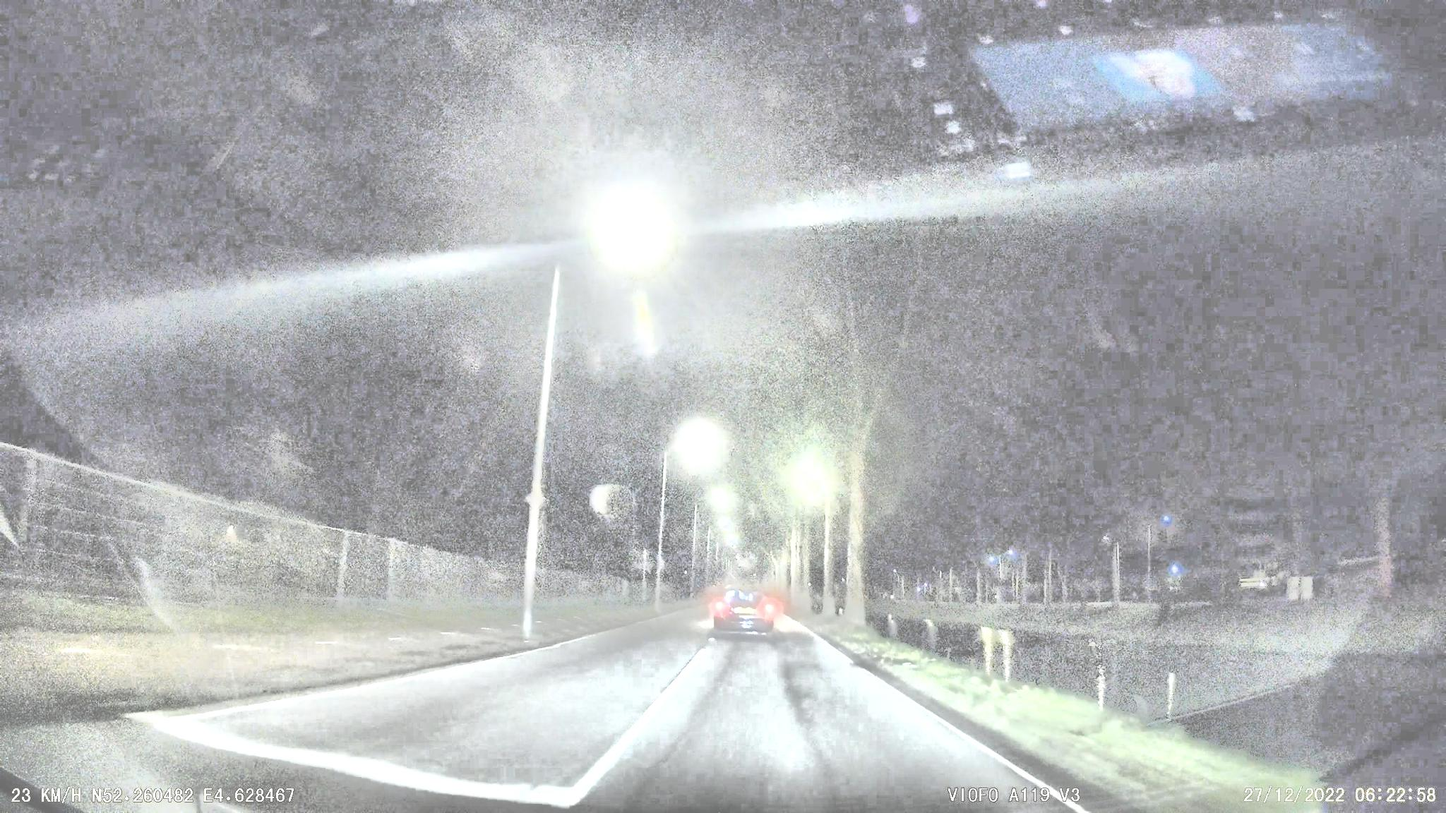Roads: (0, 613, 1147, 813)
